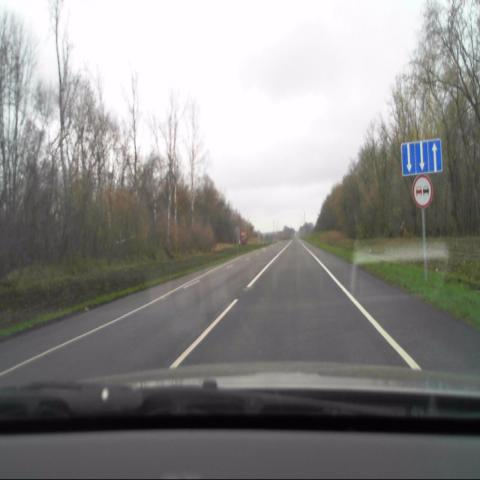3_20: (412, 174, 432, 208)
